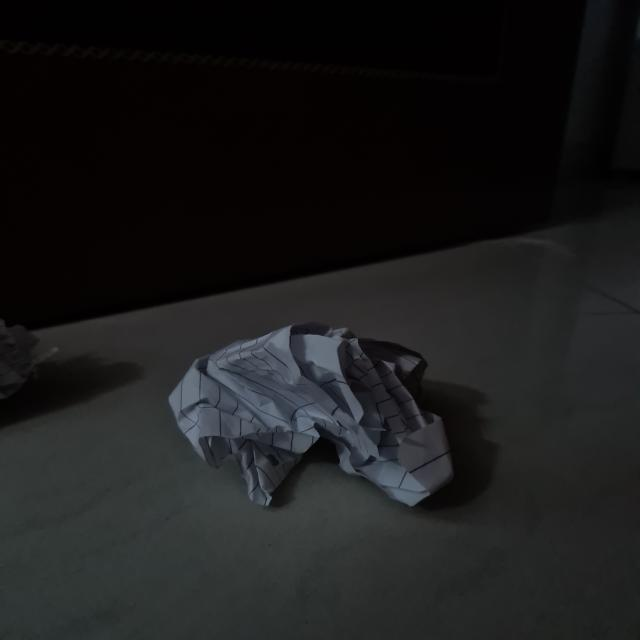Paper: (166, 325, 462, 508)
